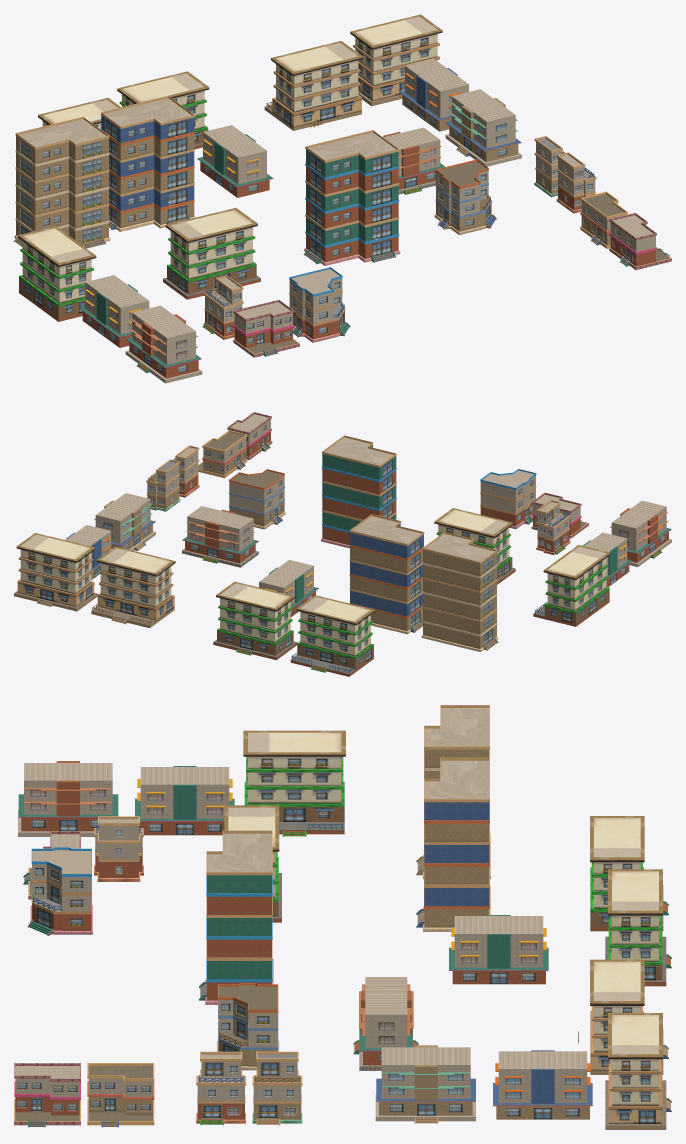
The model's file is Buildings.FBX.
3 renders of one model, top to bottom at view 1: azimuth 30°, elevation 25°; view 2: azimuth 150°, elevation 25°; view 3: azimuth 270°, elevation 25°, orthographic. The views are drawn at different scales.
Visible parts, largest first — view 1: Building_10_Roof, Building_10_Roof001, Building_10_Roof002, Box014, Box021, Box022, Box001, Object003, Object002, Box025, Building_4_Floor, Building_4_Floor001 (+11 smaller); view 2: Building_10_Roof002, Building_10_Roof001, Building_10_Roof, Box014, Box024, Box001, Box023, Box022, Object008, Building_4_Floor, Building_4_Floor001, Object003 (+11 smaller); view 3: Building_10_Roof001, Building_10_Roof, Box022, Object002, Box001, Box025, Box019, Object003, Box020, Box023, Building_4_Floor001, Building_4_Floor (+11 smaller).
Part boxes in pixels (x1,y1,x2,y2): Building_10_Roof: [303, 130, 400, 265]; Building_10_Roof001: [101, 96, 195, 231]; Building_10_Roof002: [14, 117, 110, 248]; Box014: [264, 41, 363, 130]; Box021: [163, 208, 260, 299]; Box022: [18, 226, 96, 321]; Box001: [350, 14, 442, 106]; Object003: [125, 305, 202, 383]; Object002: [445, 89, 521, 166]; Box025: [197, 125, 273, 197]; Building_4_Floor: [434, 159, 496, 234]; Building_4_Floor001: [289, 267, 350, 342]; Building_10_Roof002: [421, 532, 498, 651]; Building_10_Roof001: [349, 514, 424, 634]; Building_10_Roof: [321, 435, 396, 548]; Box014: [91, 546, 175, 628]; Box024: [290, 595, 374, 676]; Box001: [14, 533, 97, 611]; Box023: [213, 581, 297, 660]; Box022: [533, 545, 610, 626]; Object008: [182, 506, 258, 567]; Building_4_Floor: [229, 469, 285, 529]; Building_4_Floor001: [480, 469, 536, 529]; Object003: [610, 500, 671, 566]; Building_10_Roof001: [416, 757, 490, 931]; Building_10_Roof: [199, 830, 273, 1004]; Box022: [243, 730, 345, 836]; Object002: [375, 1045, 475, 1123]; Box001: [605, 1013, 671, 1129]; Box025: [449, 915, 548, 984]; Box019: [493, 1050, 592, 1119]; Object003: [18, 761, 118, 836]; Box020: [135, 766, 234, 835]; Box023: [605, 869, 671, 986]; Building_4_Floor001: [27, 847, 92, 935]; Building_4_Floor: [217, 983, 279, 1070].
Size of the model in its own units: 165 by 31.22 by 141.
